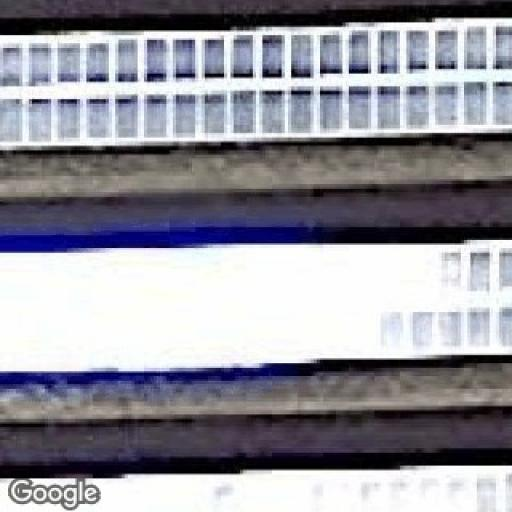solar-panel: (0, 16, 512, 152), (0, 242, 512, 376), (0, 464, 512, 512)
